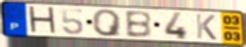4: (163, 11, 190, 41)
5: (60, 8, 85, 36)
B: (123, 10, 154, 40)
H: (27, 5, 59, 36)
K: (194, 13, 219, 41)
Q: (91, 9, 124, 38)
